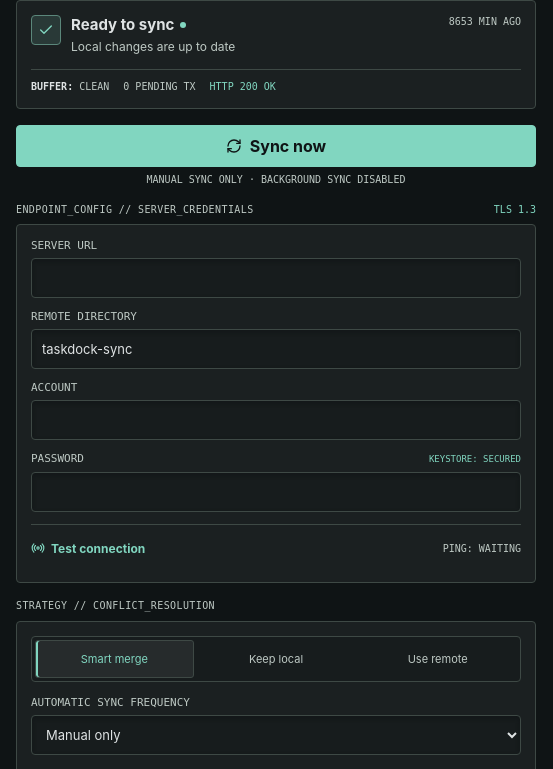
Test case: maps backend sync error errors.sync.configuration.missing to stable translated copy
The image size is (553, 769).
Step 1. Click the button "Sync now" → (276, 146), box [16,125,536,167]
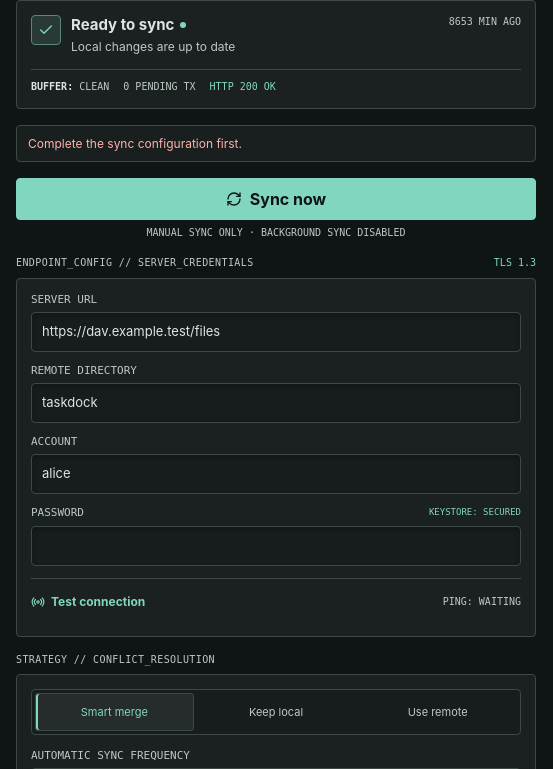
Check: the message "Complete the sync configuration first." is shown, box [16,125,536,162]
